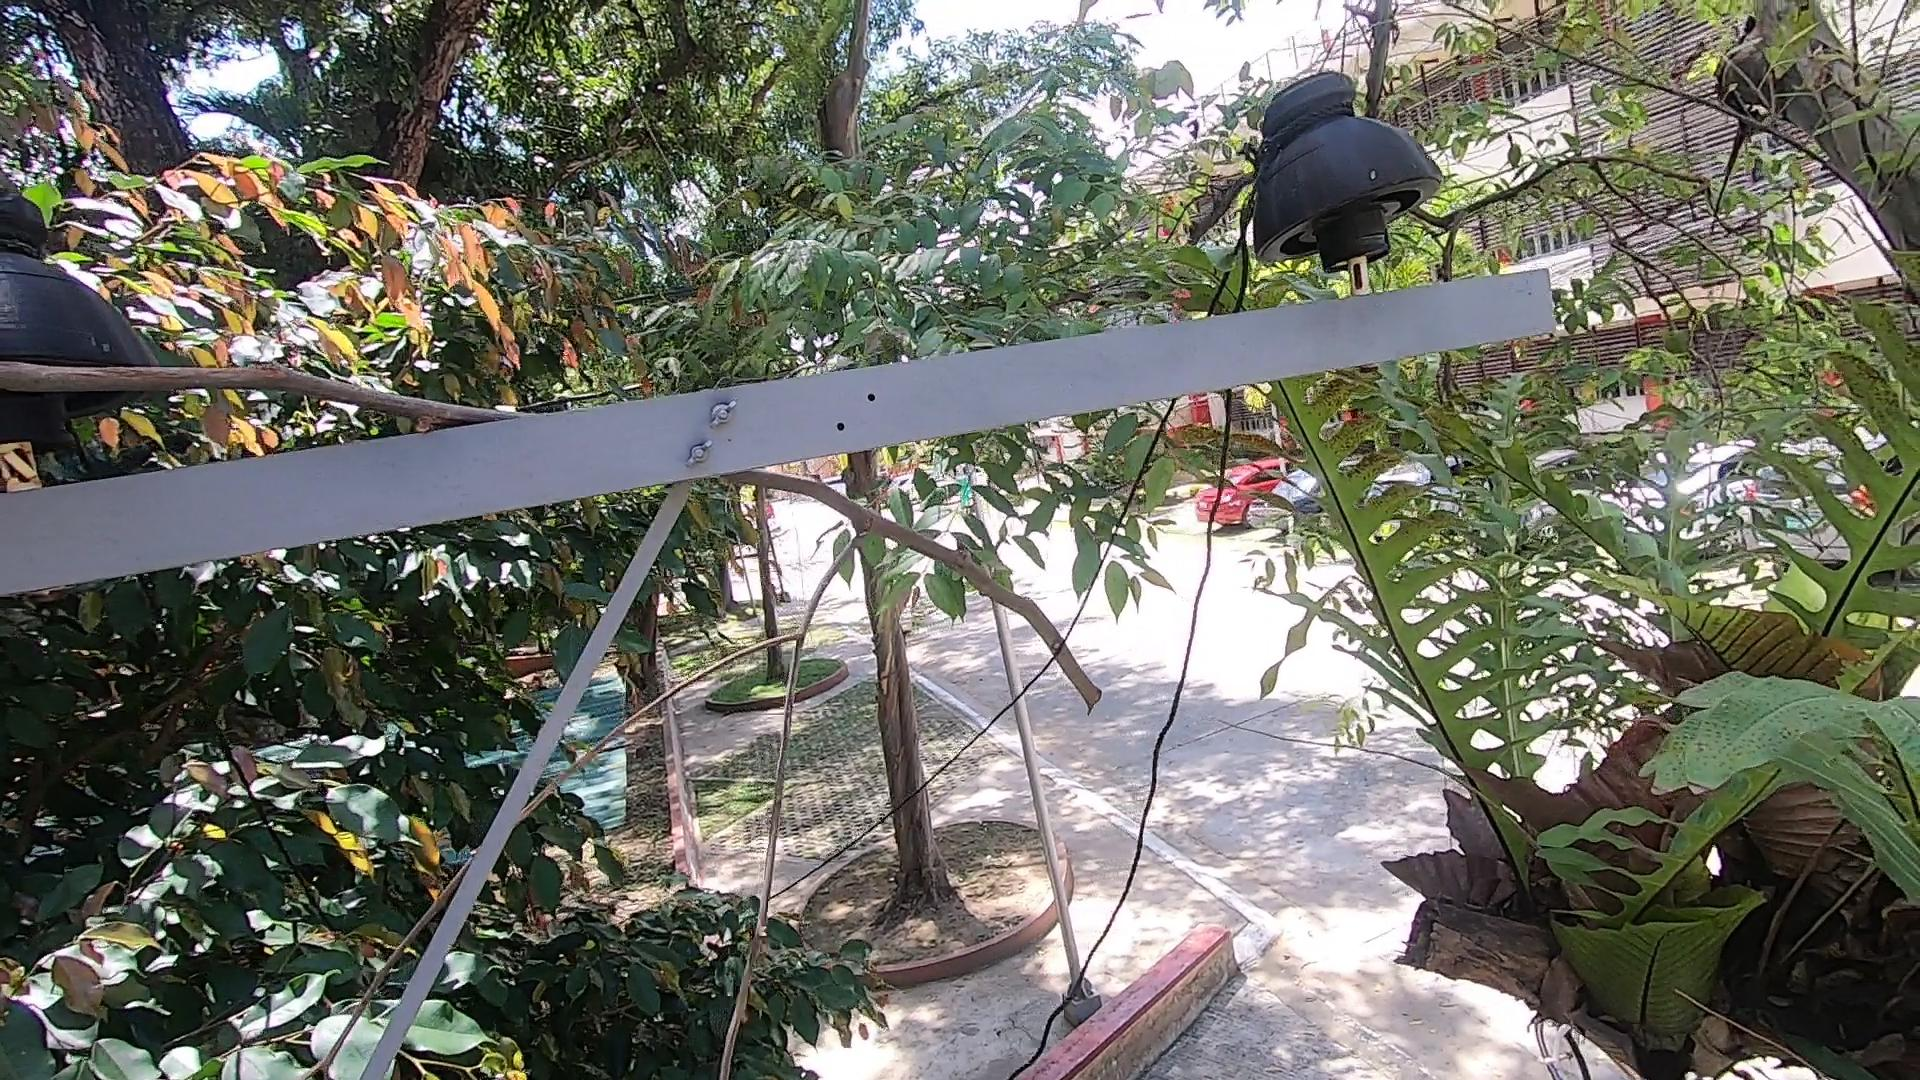tree branch: (505, 462, 1106, 1080), (258, 847, 477, 1080), (1, 340, 508, 425)
